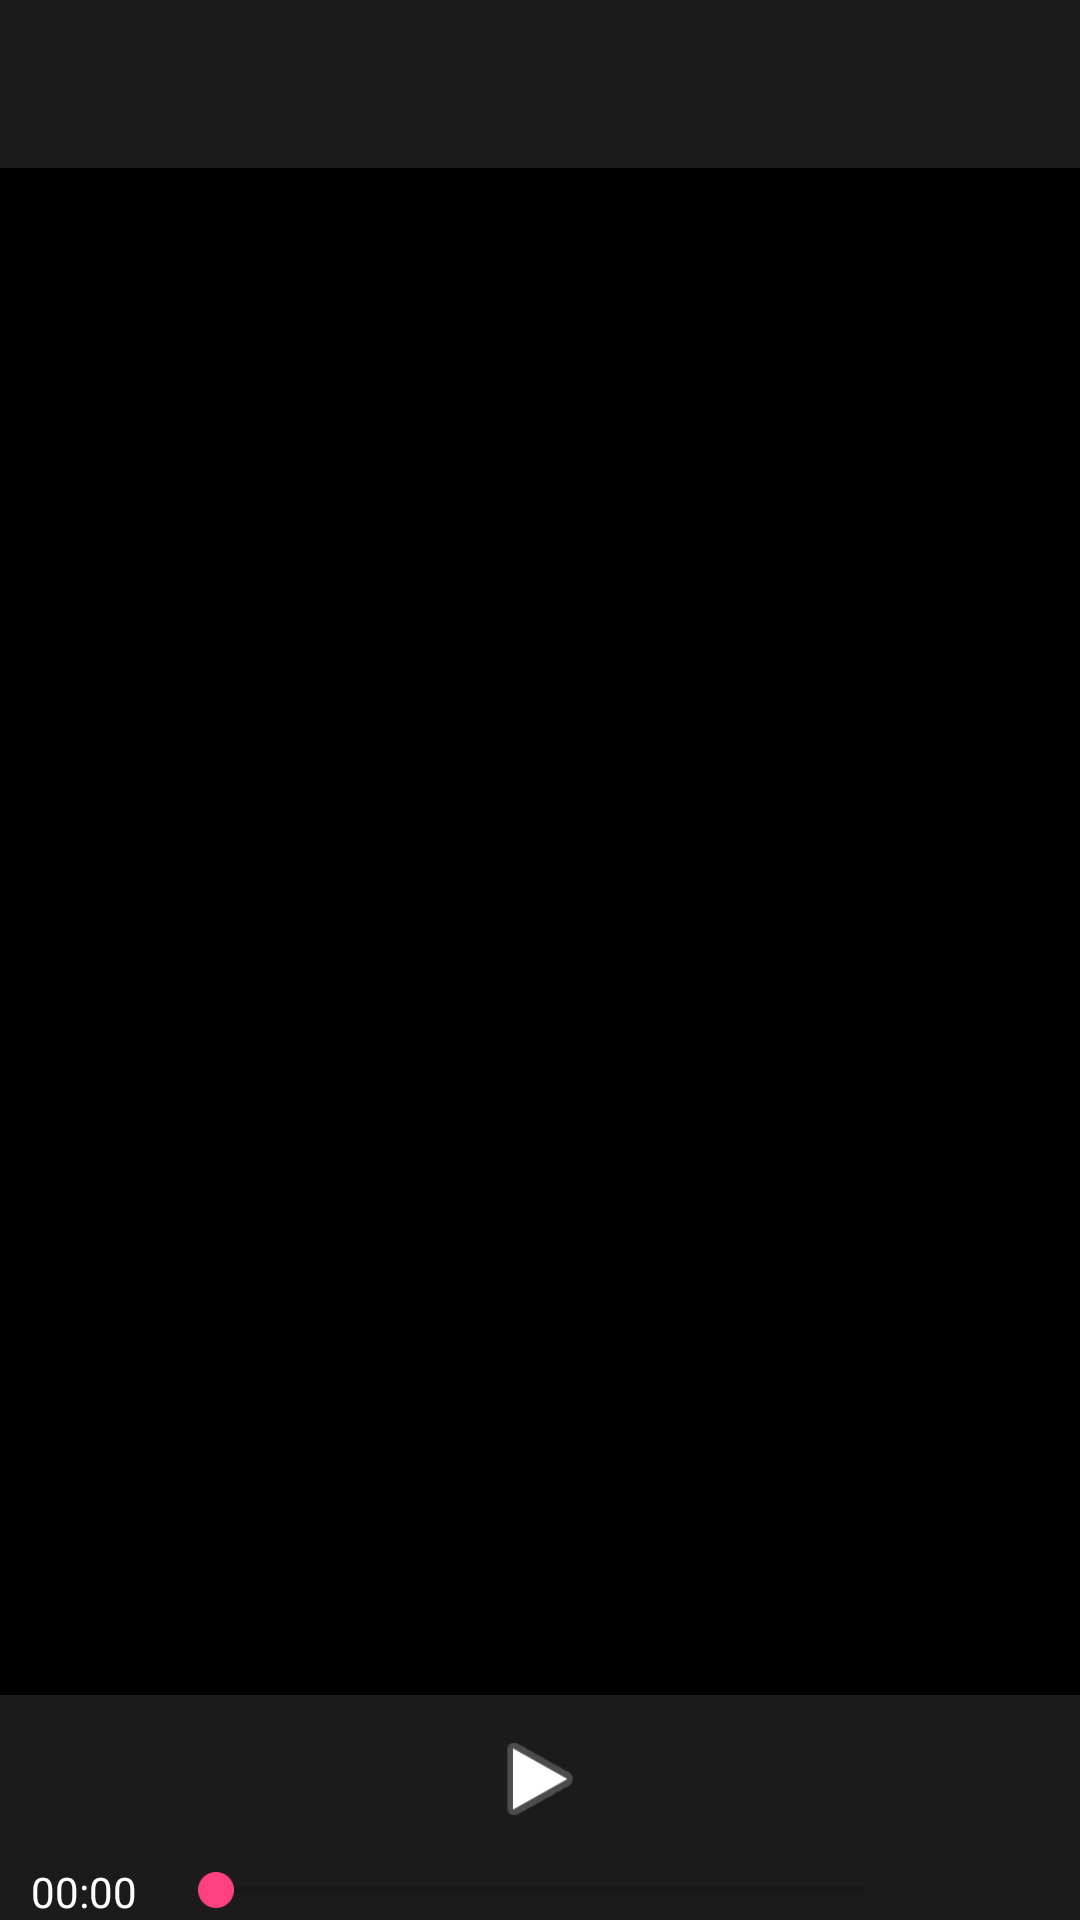

Icons on this 1080*1920 Android screen, each with its box as (x1,y1,x2,y2):
play: (507,1743,573,1815)
